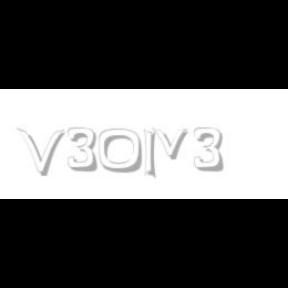3: (67, 128, 98, 172), (194, 128, 224, 172)
O: (98, 128, 144, 174)
V: (17, 128, 65, 176)
l: (144, 128, 160, 180)
v: (152, 128, 192, 160)
